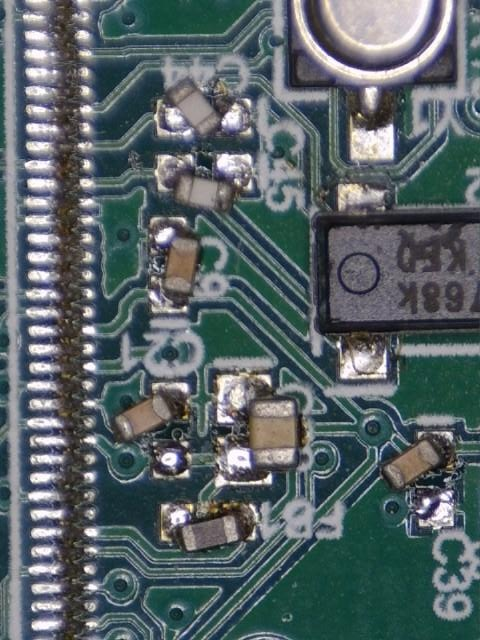pcb_defect: (214, 373, 300, 489), (112, 382, 191, 480), (381, 430, 456, 530), (154, 73, 254, 142), (153, 152, 255, 215), (158, 501, 257, 554), (148, 216, 199, 314)
